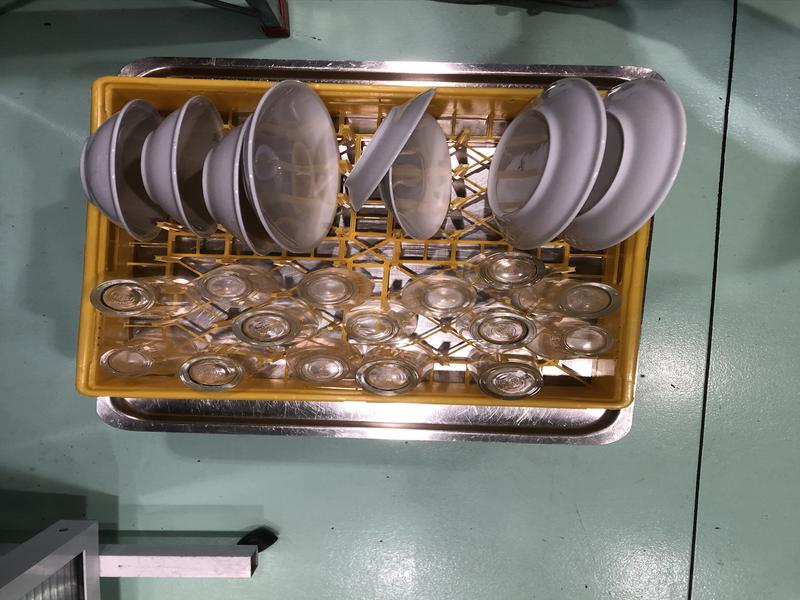Dish: (245, 80, 340, 253), (78, 100, 176, 244), (203, 110, 286, 260), (139, 94, 216, 238), (373, 108, 452, 241)
Glass: (87, 271, 203, 323), (102, 319, 190, 377), (520, 276, 621, 321), (465, 344, 543, 399), (193, 263, 284, 308), (182, 343, 269, 389), (447, 307, 531, 353), (281, 339, 356, 390), (229, 304, 323, 343), (361, 345, 431, 395), (398, 273, 475, 317), (338, 303, 410, 349), (467, 247, 542, 291), (540, 314, 606, 363), (292, 269, 366, 309)
Inclined_dish: (565, 75, 686, 253), (490, 76, 605, 251), (344, 88, 438, 213)
